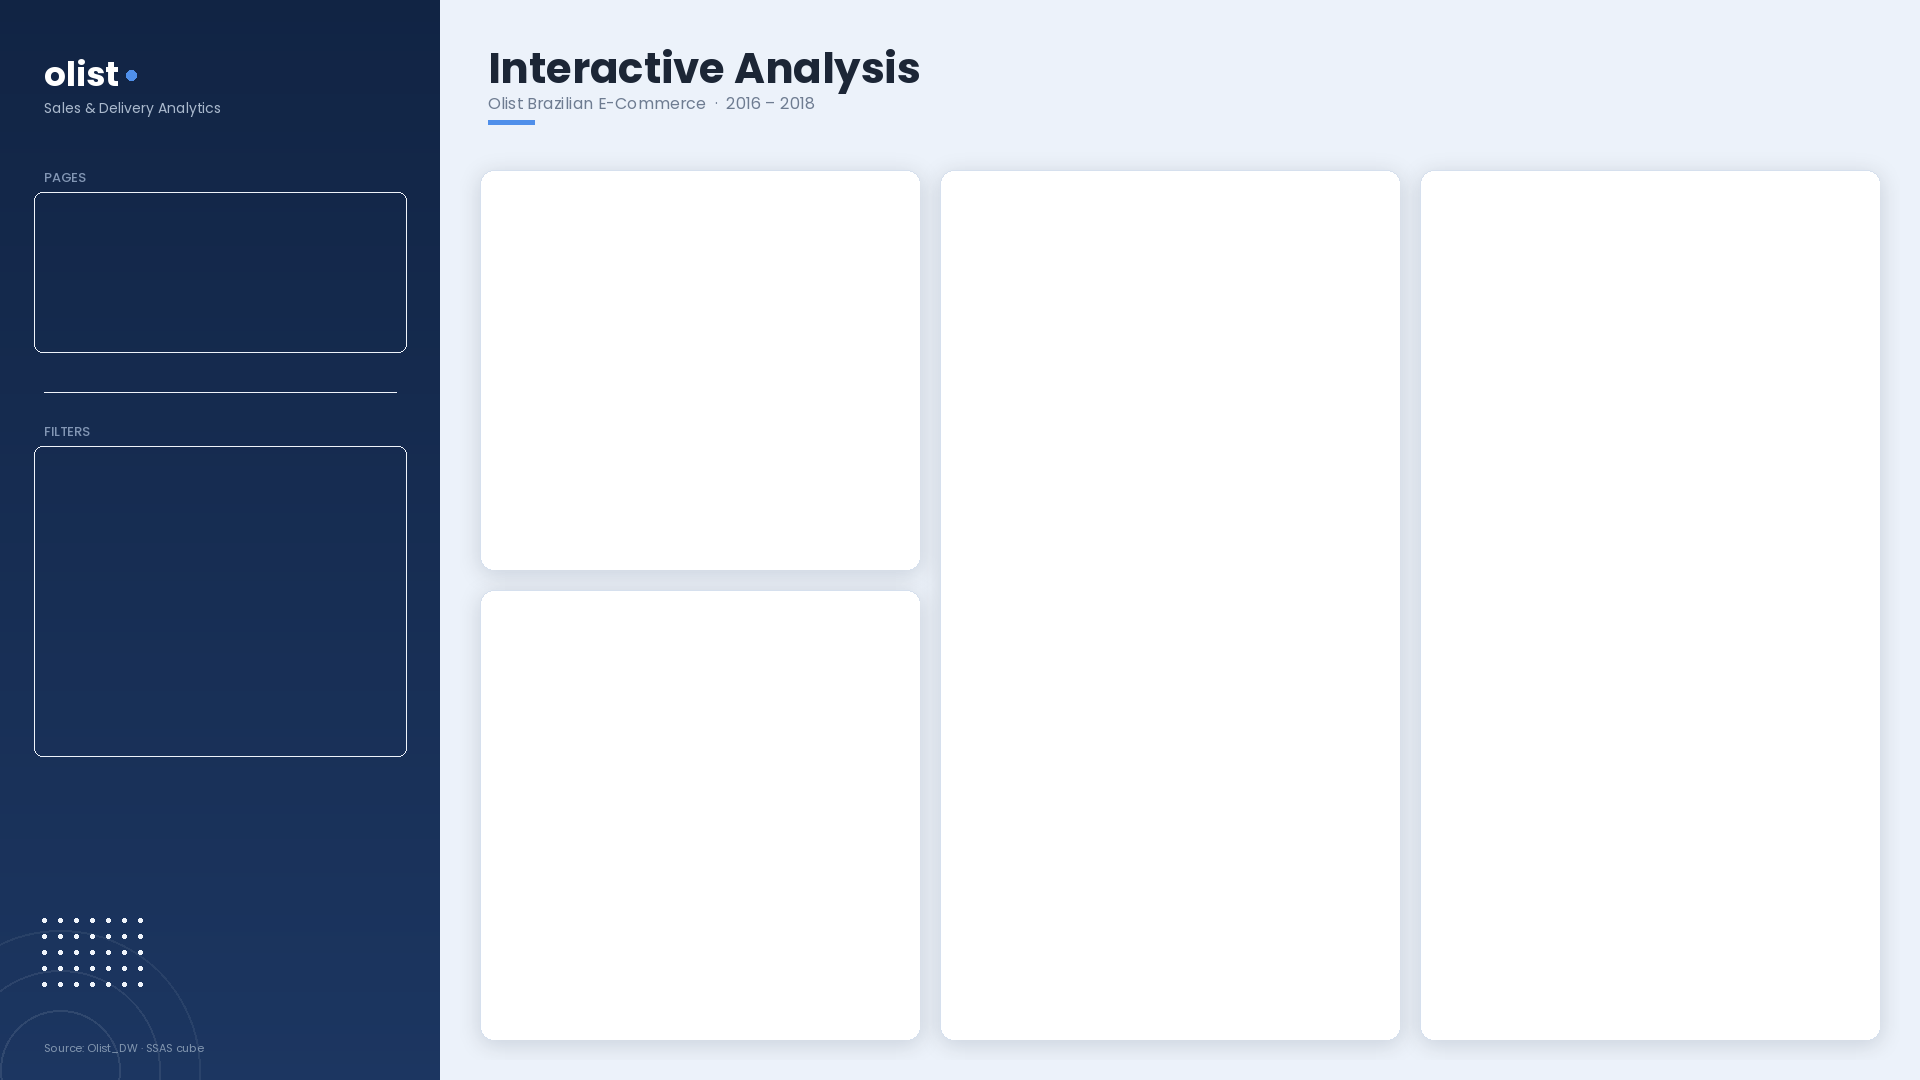

The dashboard page shown, as its layout file describes it:
{"tool":"powerbi","page":{"name":"Interactive Analysis","canvas":[1920,1080],"ordinal":2},"visuals":[{"type":"pageNavigator","box":[35,190,370.8,158.3],"z":0},{"type":"slicer","fields":{"Values":["Customer Location.Hierarchy.State City"]},"box":[50,552,340,90],"z":1000},{"type":"slicer","fields":{"Values":["Product.Hierarchy.Category Name En"]},"box":[50,654,340,86],"z":2000},{"type":"slicer","fields":{"Values":["Date.Hierarchy.Year Label"]},"box":[50,452,340,88],"z":3000},{"type":"pivotTable","fields":{"Rows":["Seller Location.Region"],"Values":["Fact Sales.Revenue"]},"box":[484,172,432,394],"z":4000},{"type":"clusteredColumnChart","fields":{"Category":["Customer Location.Region"],"Y":["Fact Order Fulfilment.Avg Order Value"]},"box":[484,598,432,434],"z":5000},{"type":"scatterChart","fields":{"Category":["Customer Location.State City"],"Y":["Measures.Avg Review Score"]},"box":[946,172,446,860],"z":6000},{"type":"pivotTable","fields":{"Rows":["Customer Location.Hierarchy.State Label","Customer Location.Hierarchy.State City","Customer Location.Hierarchy.Location Key"],"Values":["Fact Sales.Revenue","Fact Order Fulfilment.Sales Orders","Measures.Avg Delivery Days","Measures.Avg Delivery Days","Fact Order Fulfilment.Late Delivery %","Measures.Avg Review Score"]},"box":[1428,172,446,860],"z":7000}]}

Visuals, with their boxes on the page's 1920x1080 design canvas (x1, y1, x2, y2). These are canvas units, not pixel positions in the 1920x1080 screenshot, which may show the page scaled, cropped or inside an application window:
pageNavigator: l=35, t=190, r=406, b=348
slicer - Customer Location.Hierarchy.State City: l=50, t=552, r=390, b=642
slicer - Product.Hierarchy.Category Name En: l=50, t=654, r=390, b=740
slicer - Date.Hierarchy.Year Label: l=50, t=452, r=390, b=540
pivotTable - Seller Location.Region x Fact Sales.Revenue: l=484, t=172, r=916, b=566
clusteredColumnChart - Customer Location.Region x Fact Order Fulfilment.Avg Order Value: l=484, t=598, r=916, b=1032
scatterChart - Customer Location.State City x Measures.Avg Review Score: l=946, t=172, r=1392, b=1032
pivotTable - Customer Location.Hierarchy.State Label x Customer Location.Hierarchy.State City: l=1428, t=172, r=1874, b=1032
